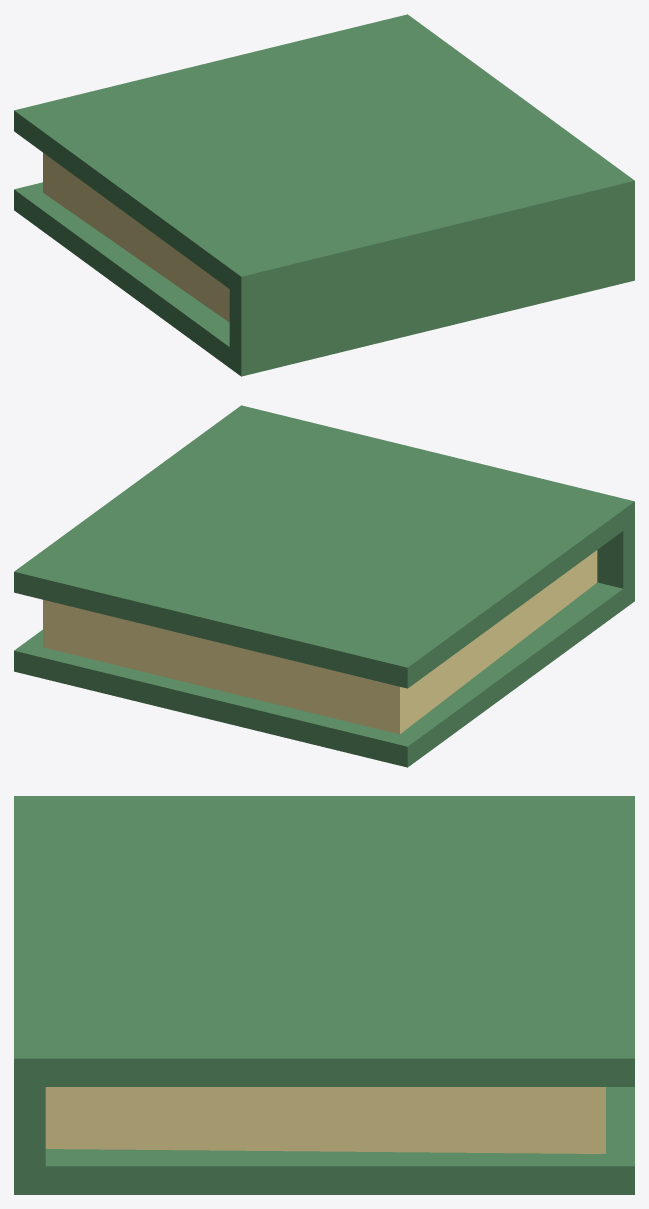
Rendered from book-green.fbx.
3 views of the same model, one above another, from view 1: azimuth 30°, elevation 25°; view 2: azimuth 150°, elevation 25°; view 3: azimuth 270°, elevation 25° (orthographic). The views are drawn at different scales.
Visible parts, largest first — view 1: Cube.004; view 2: Cube.004; view 3: Cube.004.
Boxes of the visible parts, <box> form: Cube.004: <box>14,14,634,376</box>; Cube.004: <box>14,405,634,767</box>; Cube.004: <box>14,796,634,1194</box>.
Bounding box in the file's own units: 200 × 48.48 × 200.
